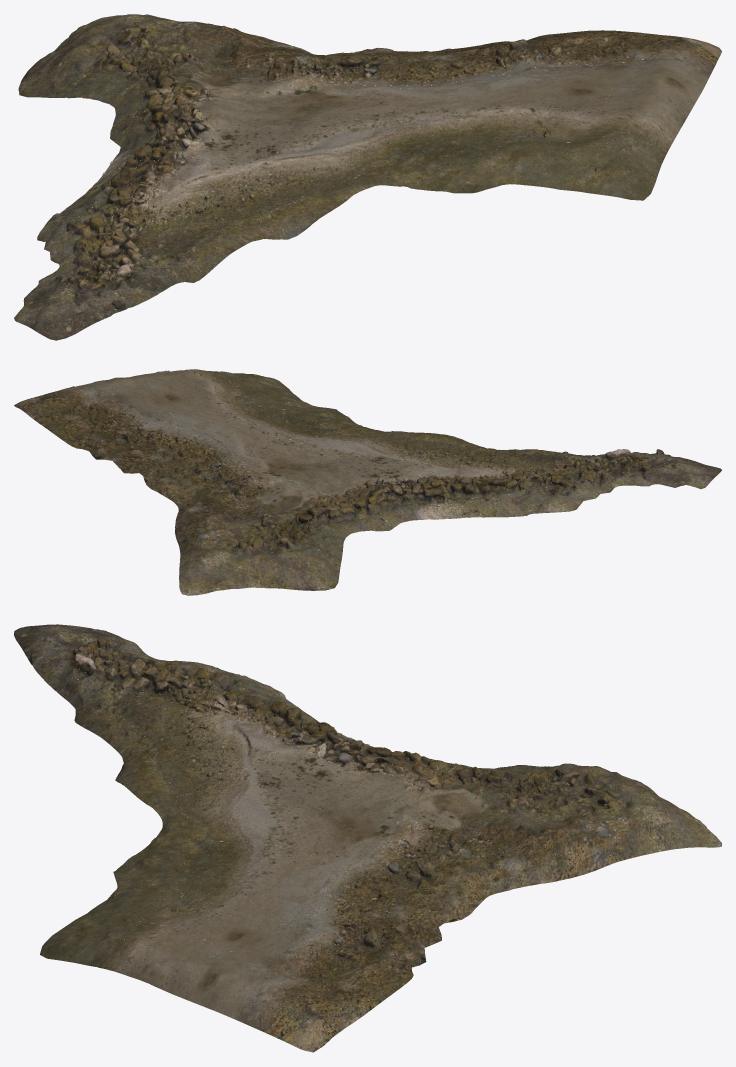
The model's file is coast_rocks.glb.
3 views of the same model, one above another, from view 1: azimuth 30°, elevation 25°; view 2: azimuth 150°, elevation 25°; view 3: azimuth 270°, elevation 25° (orthographic). The views are drawn at different scales.
Visible parts, largest first — view 1: coast_rocks_01; view 2: coast_rocks_01; view 3: coast_rocks_01.
Boxes of the visible parts, x1,y1,x2,y2 form: coast_rocks_01: [14, 14, 721, 340]; coast_rocks_01: [14, 369, 721, 595]; coast_rocks_01: [14, 624, 721, 1052].
Bounding box in the file's own units: 59.51 × 3.3 × 42.52.
Materials: 1 (1 with a texture image).
